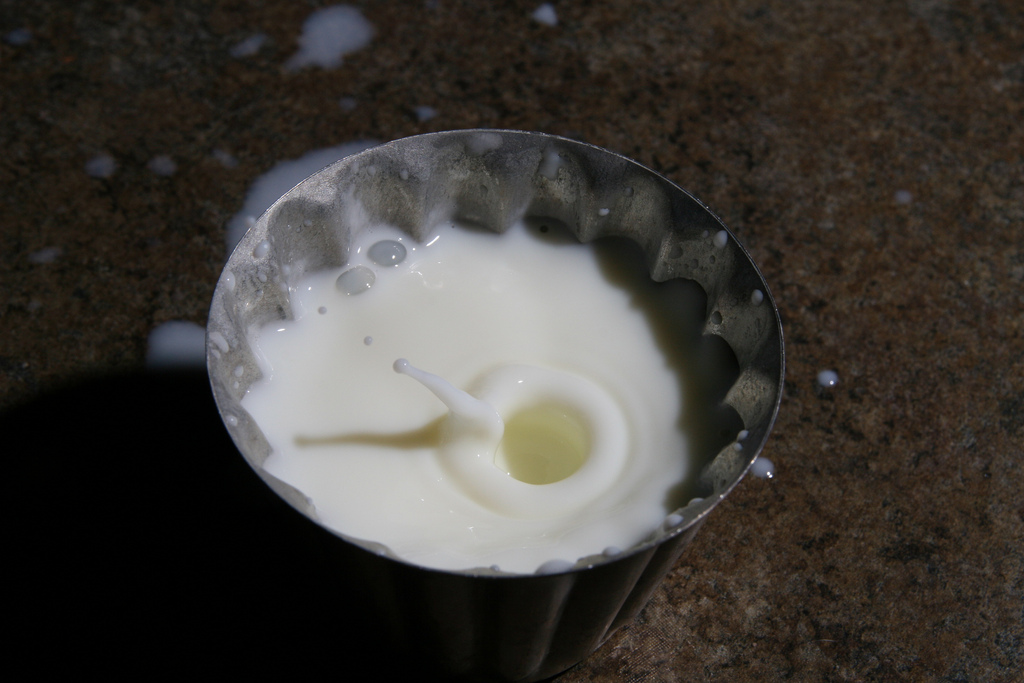glass of milk: (191, 122, 777, 618)
